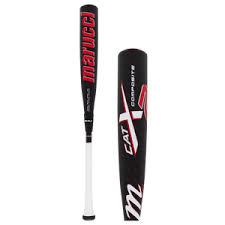baseball bat: (116, 47, 148, 225), (77, 4, 100, 224)
